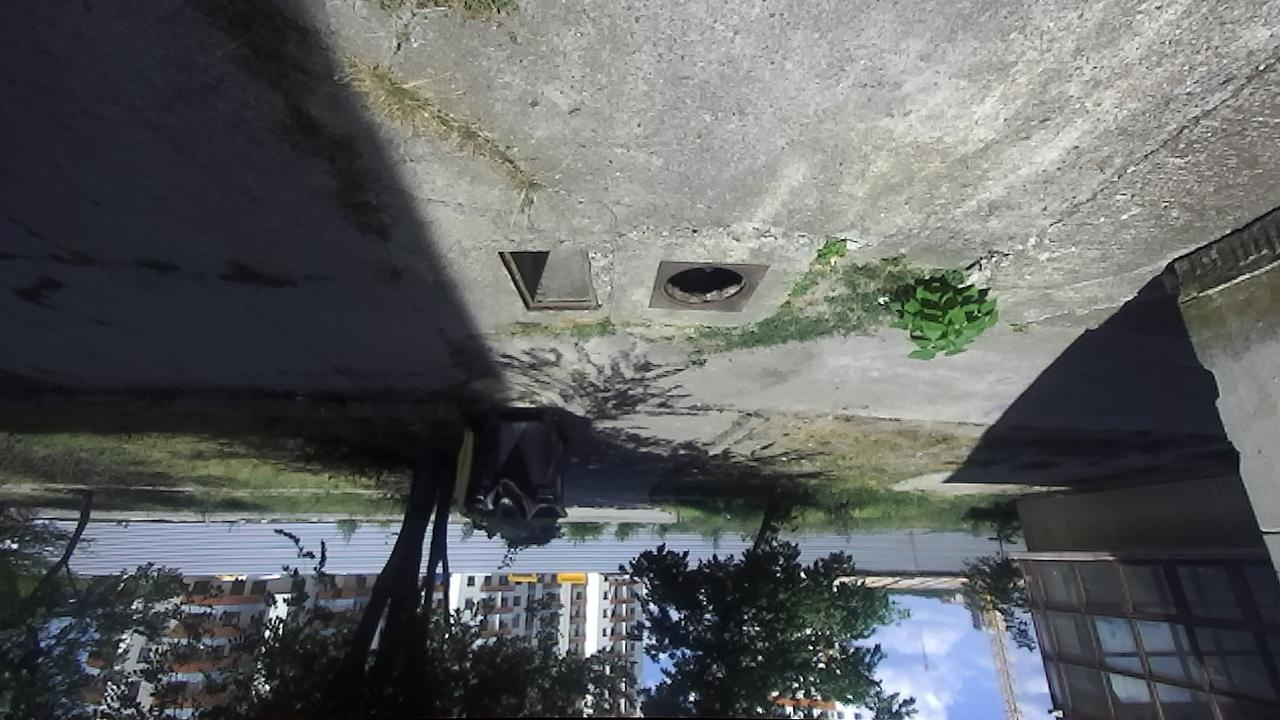drain: (495, 246, 604, 314), (657, 264, 750, 305)
